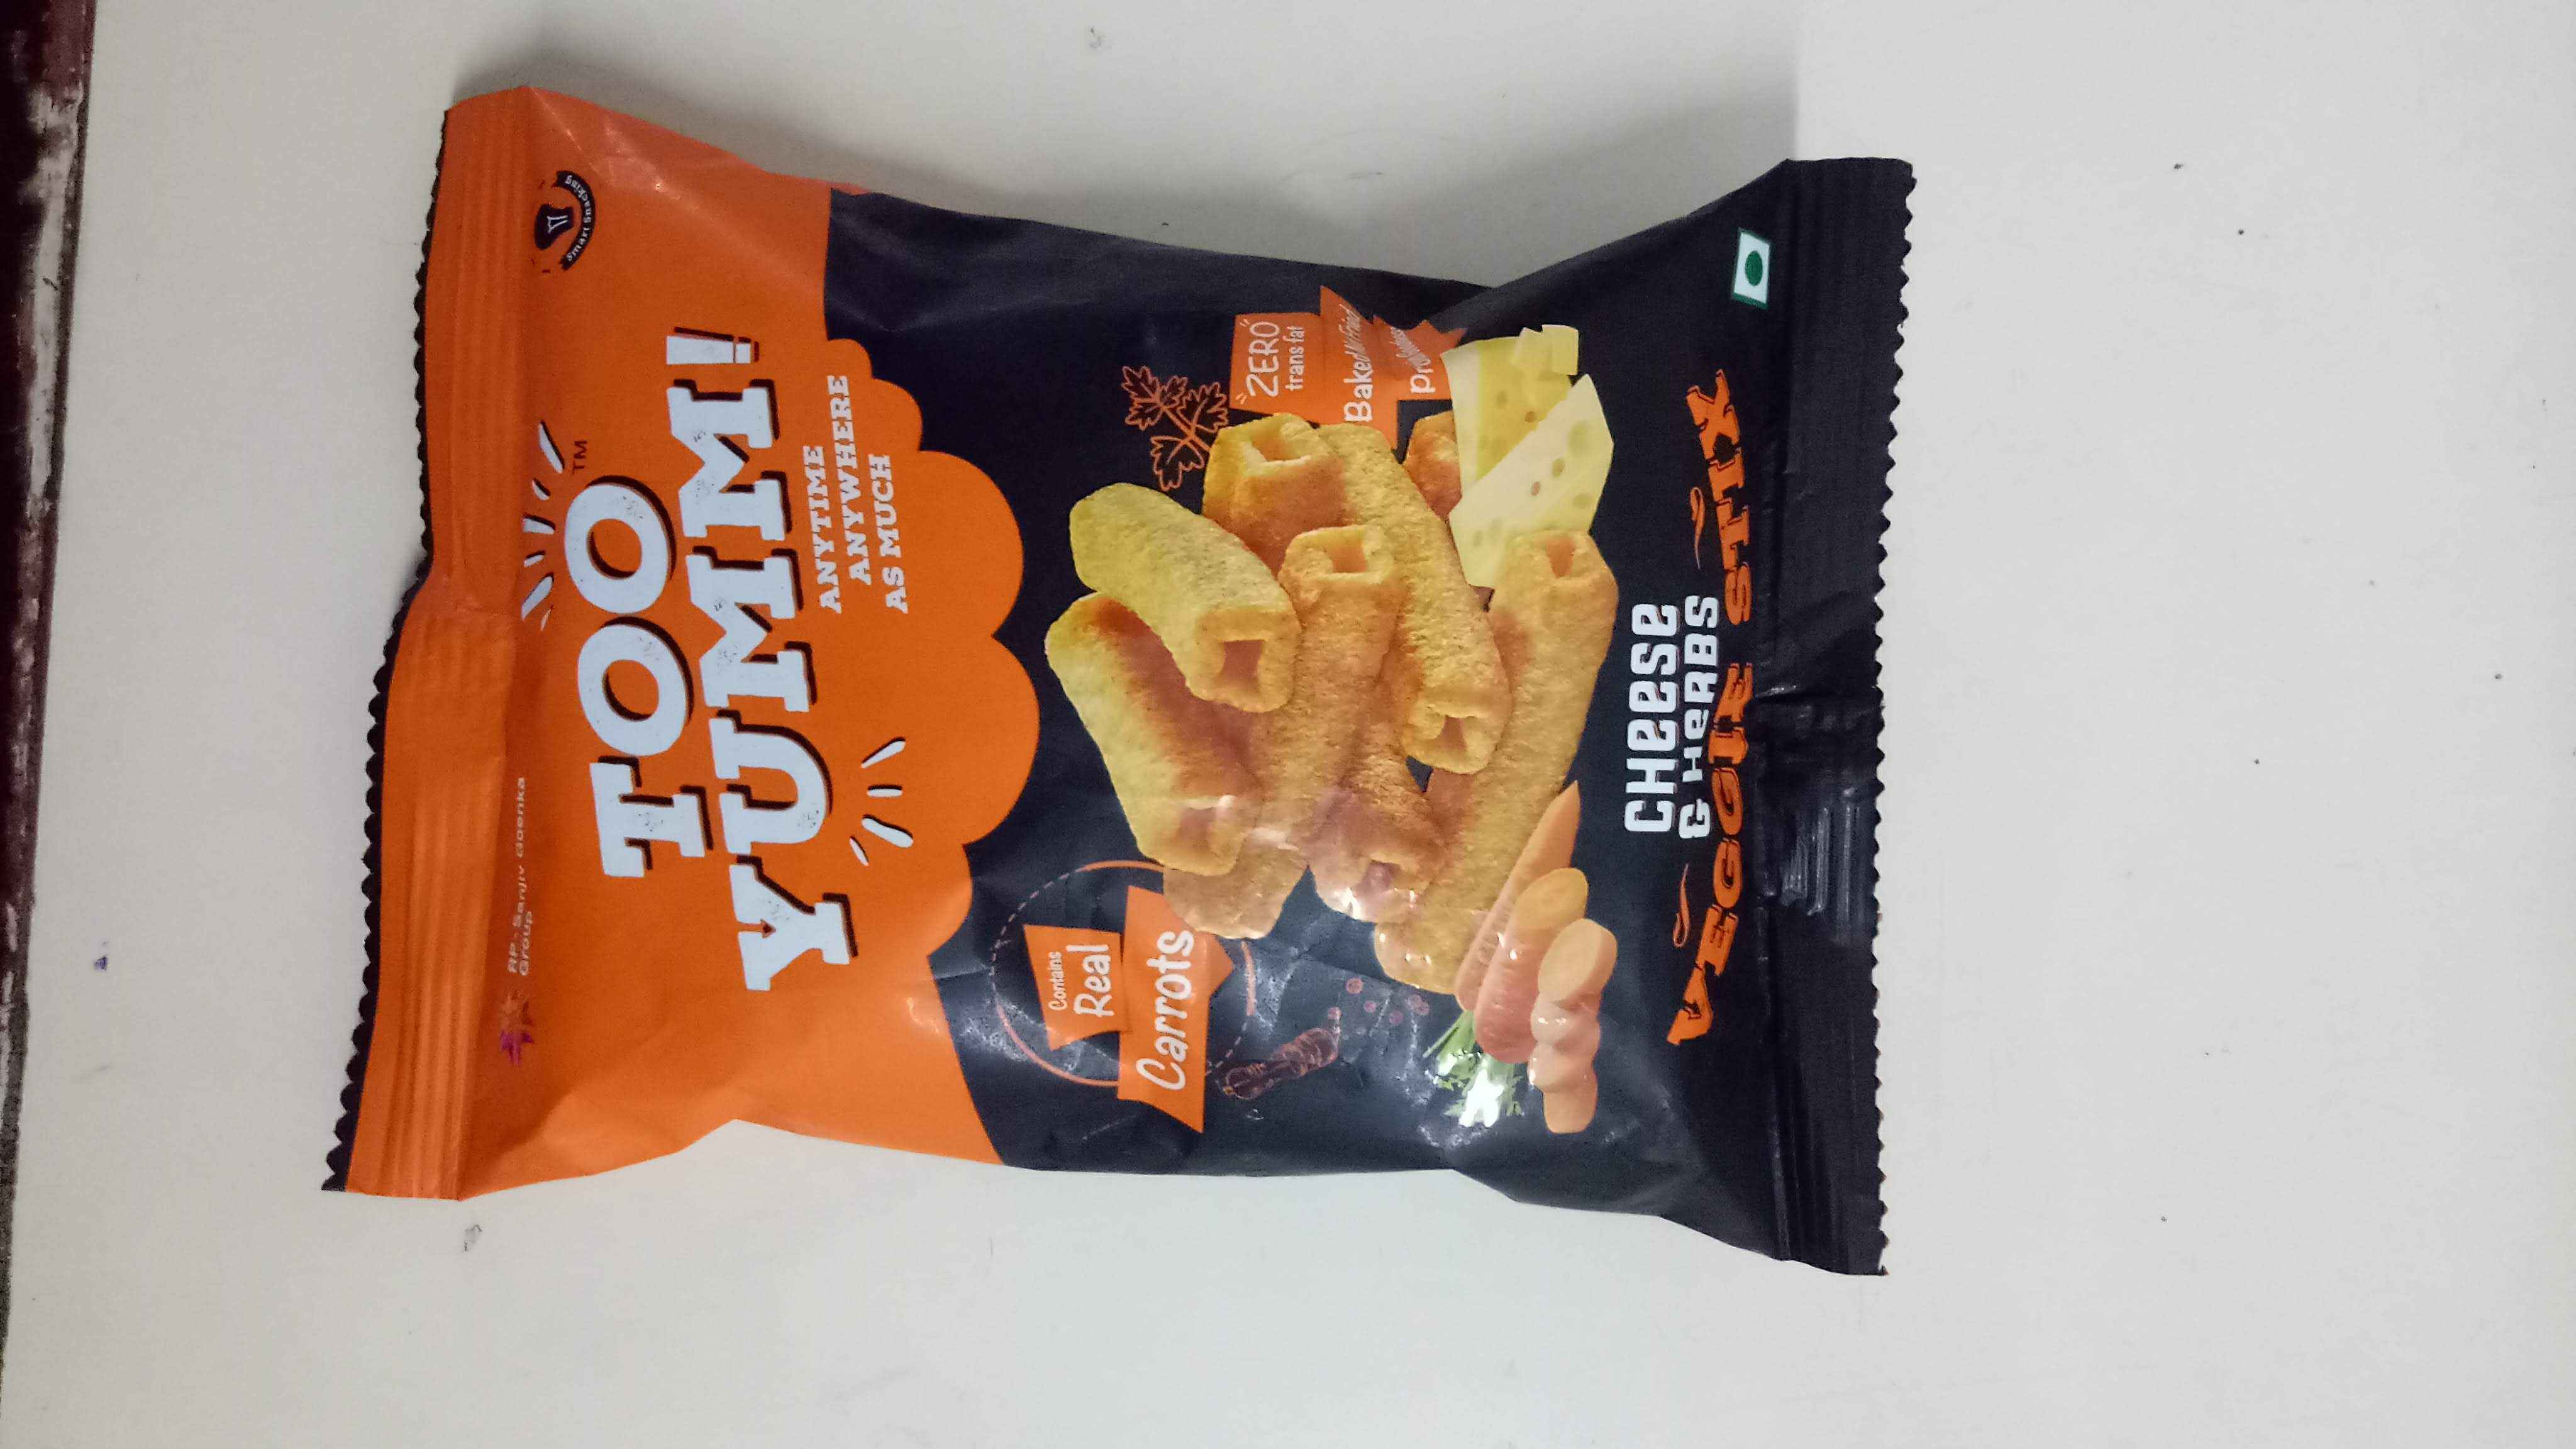tooyumm: (510, 283, 881, 1040)
